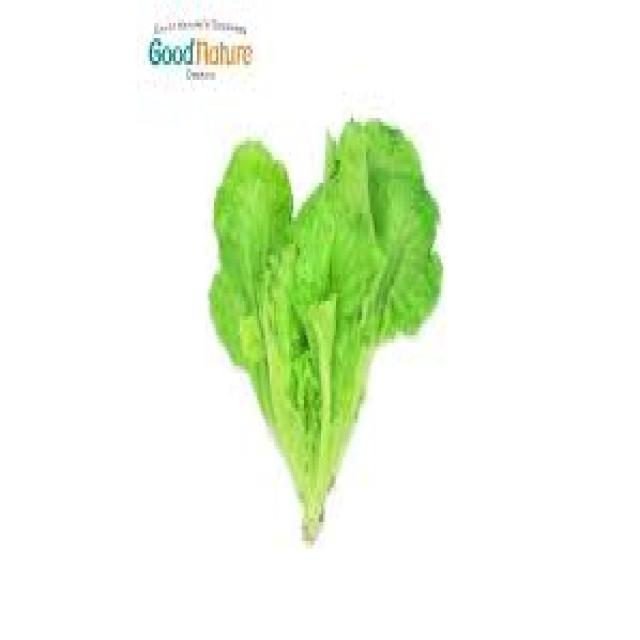lettuce: (206, 110, 443, 545)
